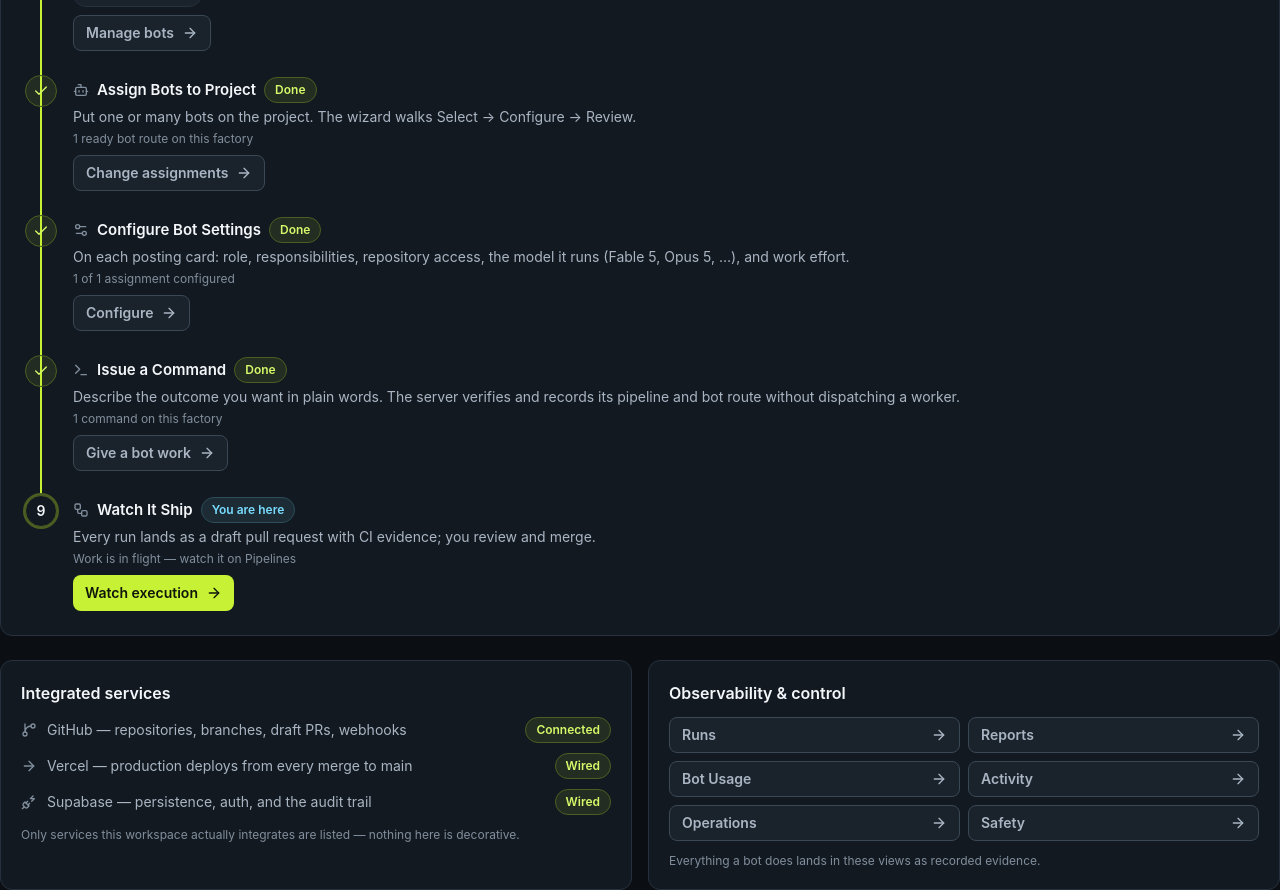
Test: AiFactoryConsole › derives progress from the live records and shows the live evidence in its overlay
The width and height of the screenshot is (1280, 890).
(page scrolled)
Check: the text "You are here" is shown, box [201, 497, 295, 523]
Check: the text "Work is in flight — watch it on Pipelines" is shown, box [73, 551, 296, 566]
Step 1. Click the button "Watch execution" → point(154, 593), box [73, 575, 234, 611]
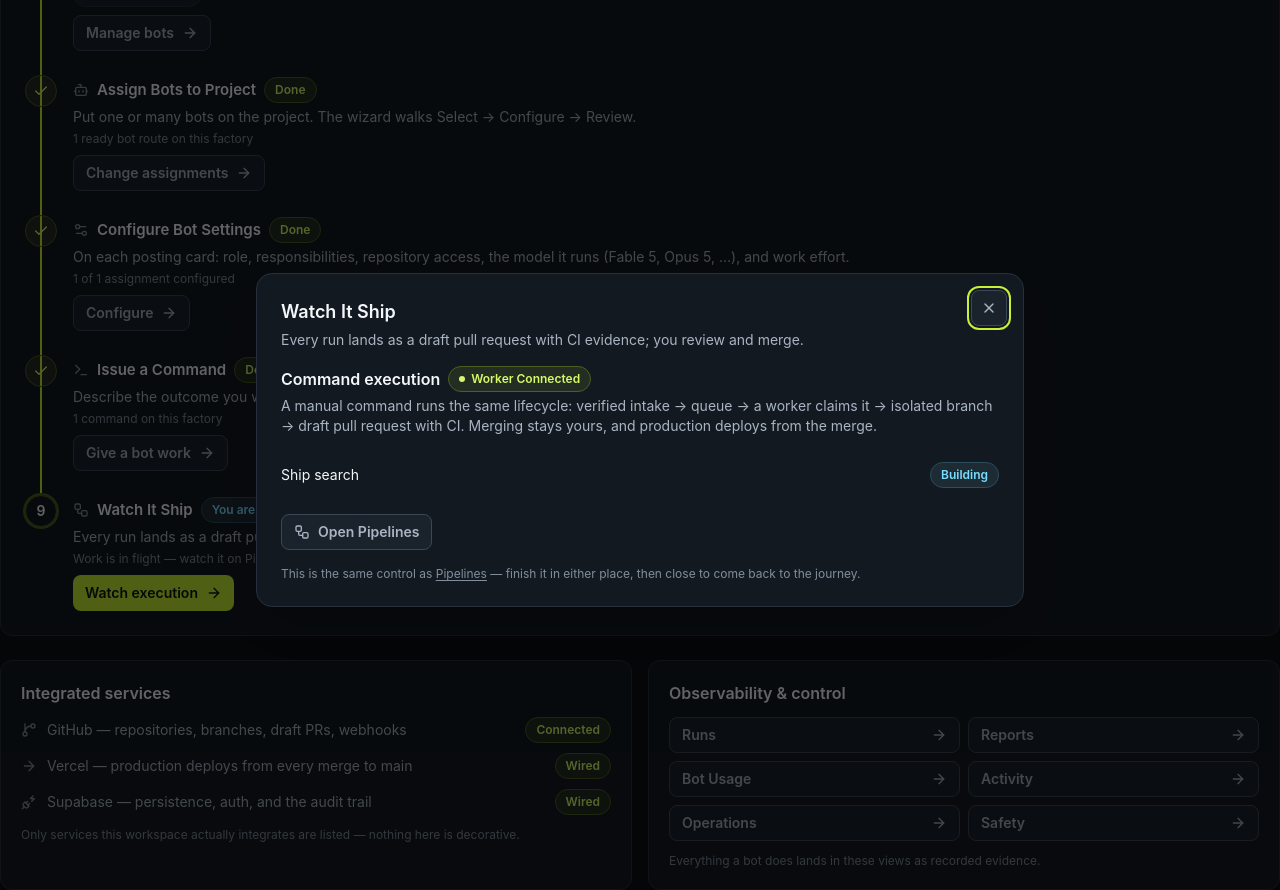
Check: the heading "Command execution" is shown, box [281, 367, 440, 391]
Check: the text "Worker Connected" is shown, box [448, 366, 591, 392]
Check: the text "Ship search" is shown, box [281, 466, 359, 483]
